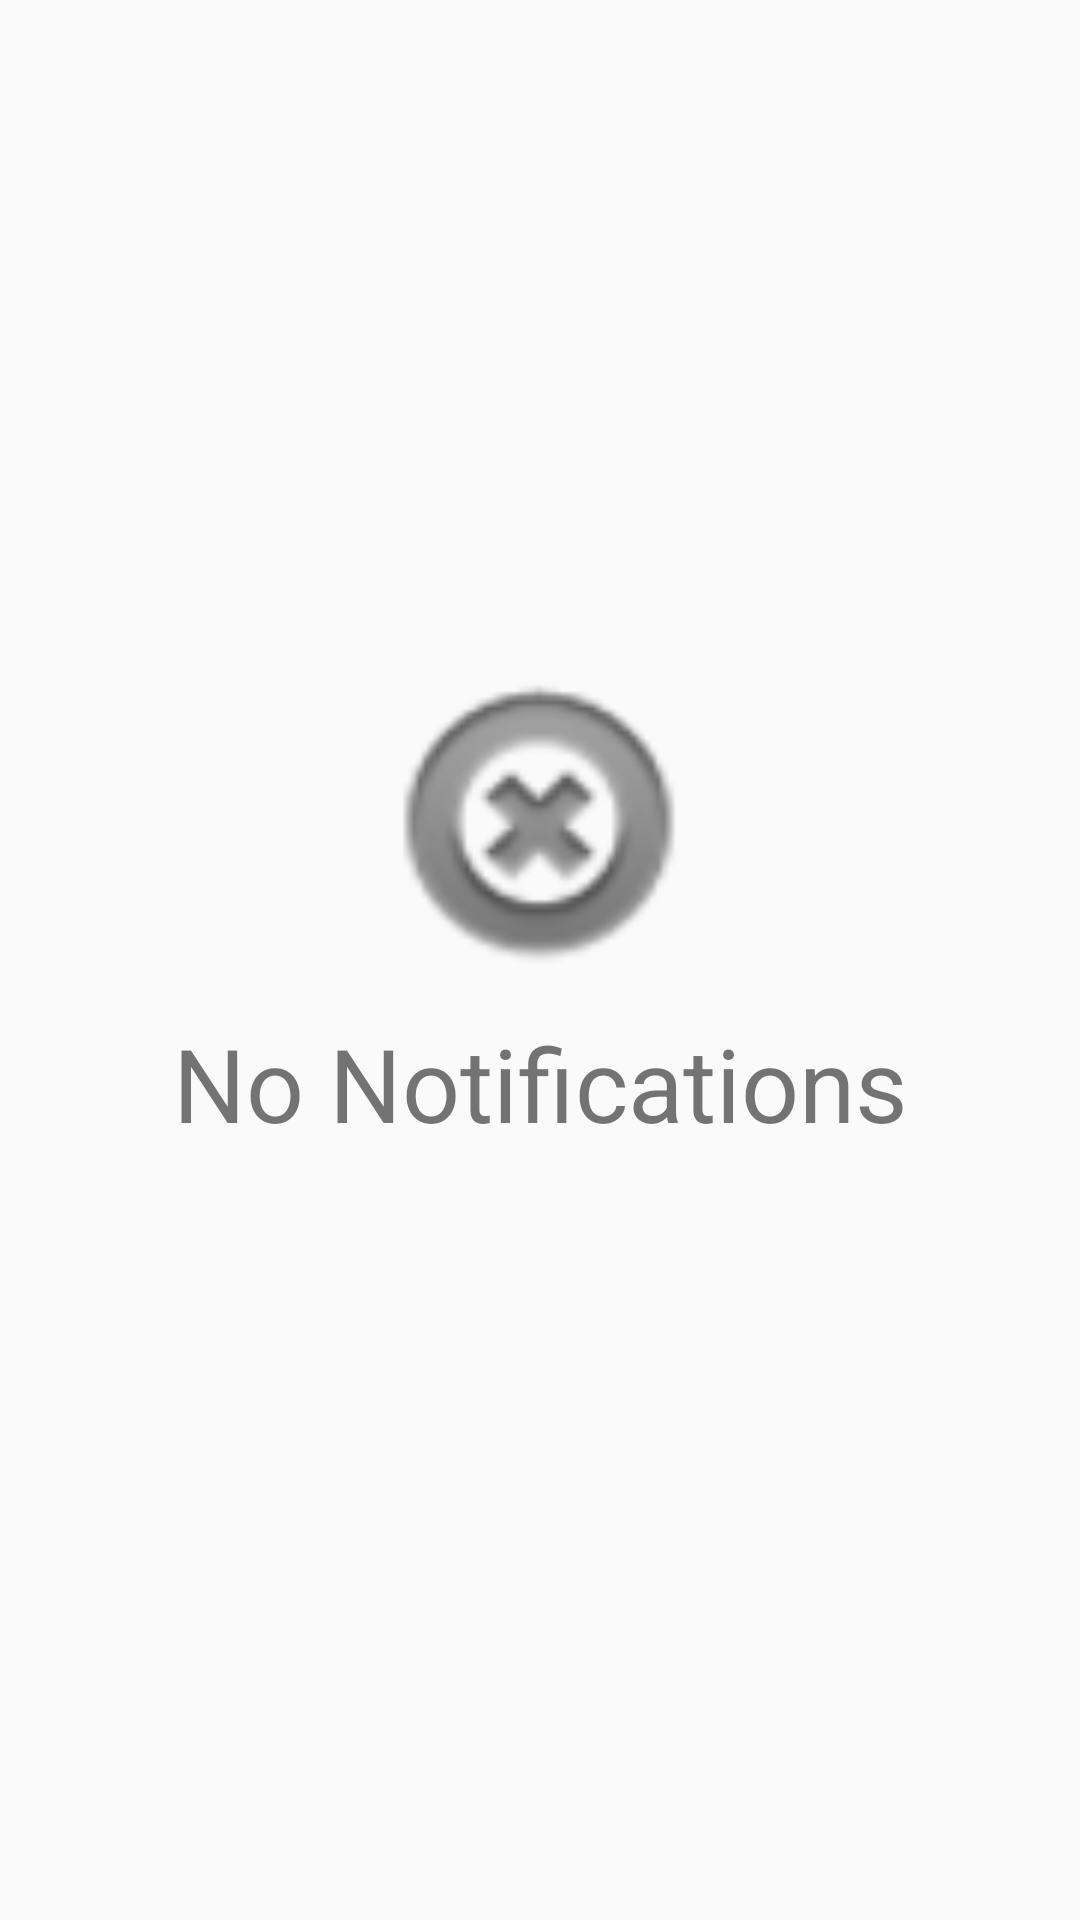

Icons on this 1080w x 1920h Android screen, each with the point to tap as [x,y]:
notification clear all: [539,822]
